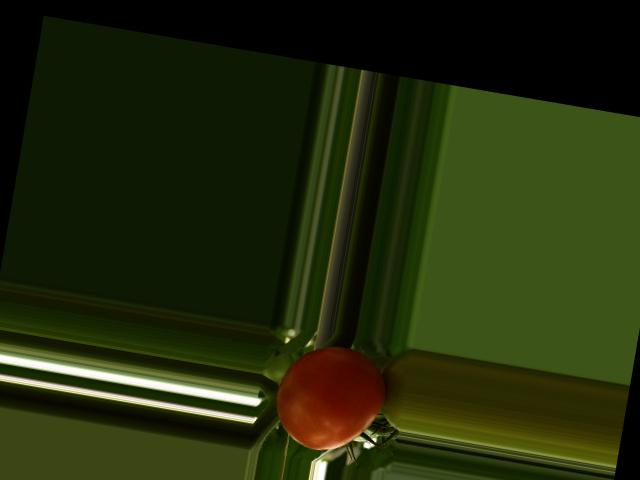tomato: (269, 337, 392, 460)
